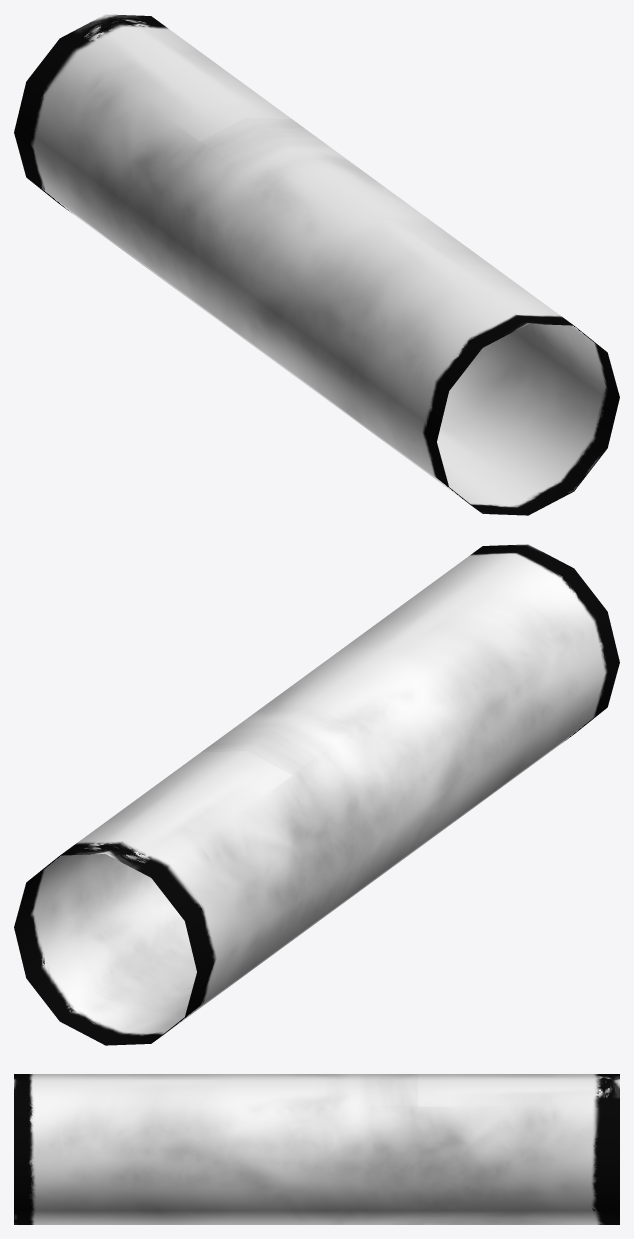
File: Pipe-I.fbx
The picture shows the model from 3 angles, top to bottom: view 1: azimuth 30°, elevation 25°; view 2: azimuth 150°, elevation 25°; view 3: azimuth 270°, elevation 25°; orthographic projection. The views are drawn at different scales.
Parts seen in each view (by area): view 1: Pipe-I; view 2: Pipe-I; view 3: Pipe-I.
Part boxes in pixels (x1=…): Pipe-I: x1=14, y1=14, x2=619, y2=515; Pipe-I: x1=14, y1=544, x2=619, y2=1045; Pipe-I: x1=14, y1=1074, x2=619, y2=1224.
Bounding box in the file's own units: 50 × 50 × 200.
1 material, 1 textured.
